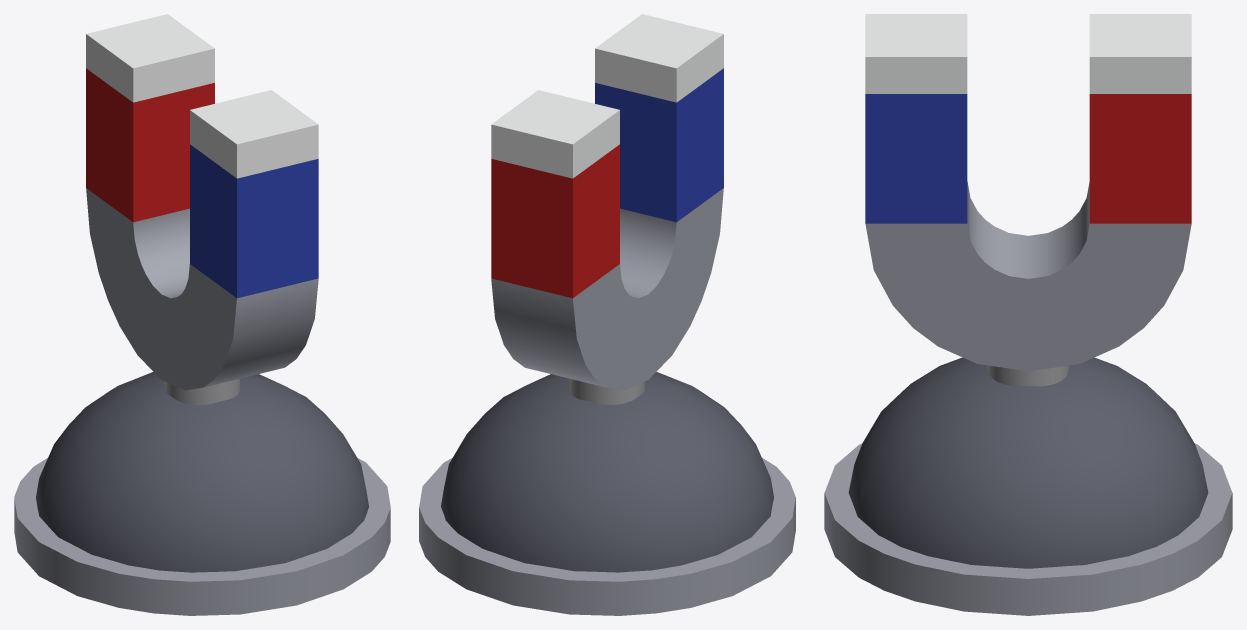
File: GrabHat no texture.fbx
3 renders of one model, left to right at view 1: azimuth 30°, elevation 25°; view 2: azimuth 150°, elevation 25°; view 3: azimuth 270°, elevation 25°, orthographic. The views are drawn at different scales.
Parts seen in each view (by area): view 1: GrabHat smooth; view 2: GrabHat smooth; view 3: GrabHat smooth.
Part boxes in pixels (x1=…): GrabHat smooth: x1=14, y1=14, x2=390, y2=615; GrabHat smooth: x1=419, y1=14, x2=795, y2=615; GrabHat smooth: x1=824, y1=14, x2=1232, y2=615.
Size of the model in its own units: 200 by 267 by 200.
